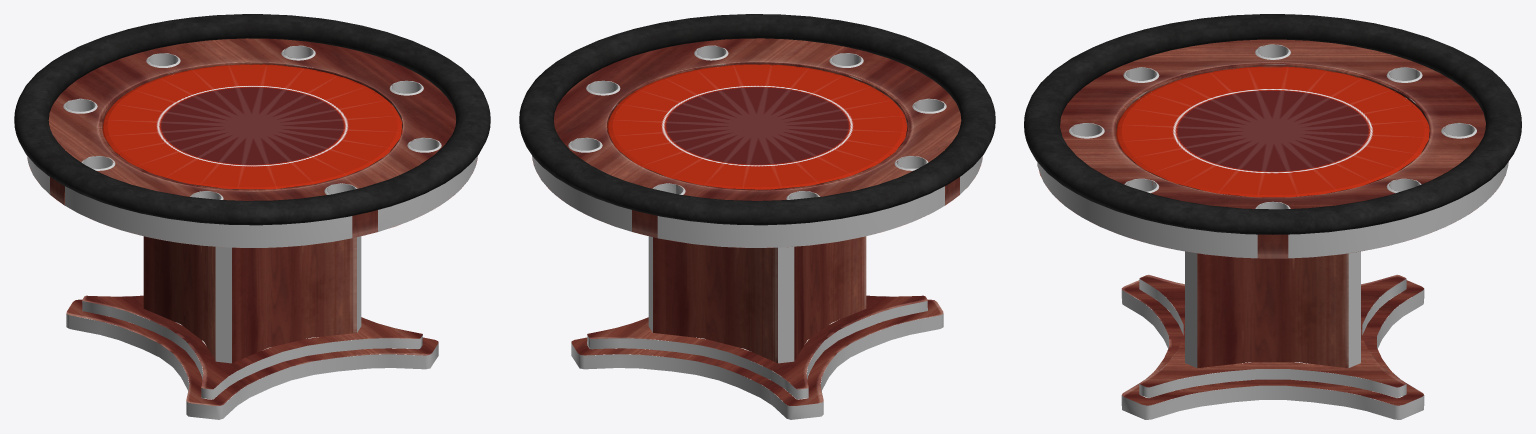
The model's file is cs_poker_table.fbx.
3 renders of one model, left to right at view 1: azimuth 30°, elevation 25°; view 2: azimuth 150°, elevation 25°; view 3: azimuth 270°, elevation 25°, orthographic. The views are drawn at different scales.
Parts seen in each view (by area): view 1: cs_poker_table_LOD0; view 2: cs_poker_table_LOD0; view 3: cs_poker_table_LOD0.
Boxes of the visible parts, x1=… form: cs_poker_table_LOD0: x1=14, y1=14, x2=490, y2=419; cs_poker_table_LOD0: x1=519, y1=14, x2=995, y2=419; cs_poker_table_LOD0: x1=1024, y1=14, x2=1521, y2=419.
Size of what is drawn, in the model's own units: 150 by 80.12 by 150.
Materials: 1 (1 with a texture image).
